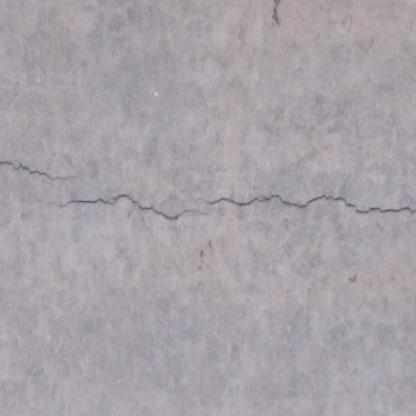Cracks: (54, 192, 416, 225), (0, 155, 75, 185)
